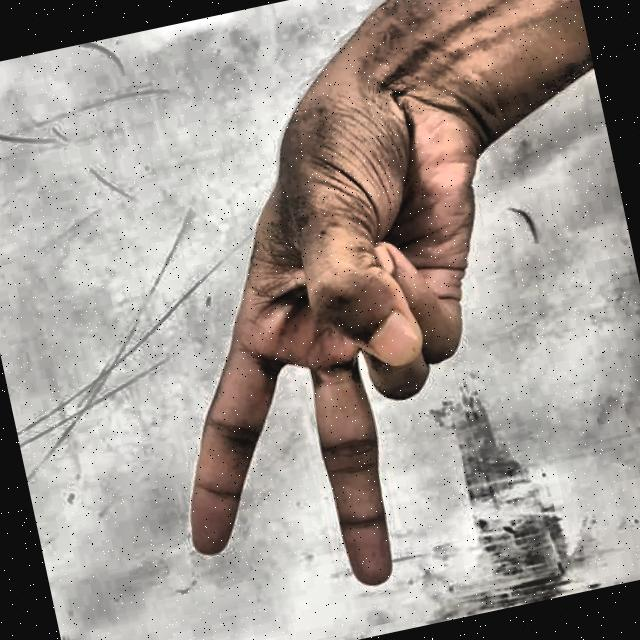Pa: (58, 17, 583, 640)
